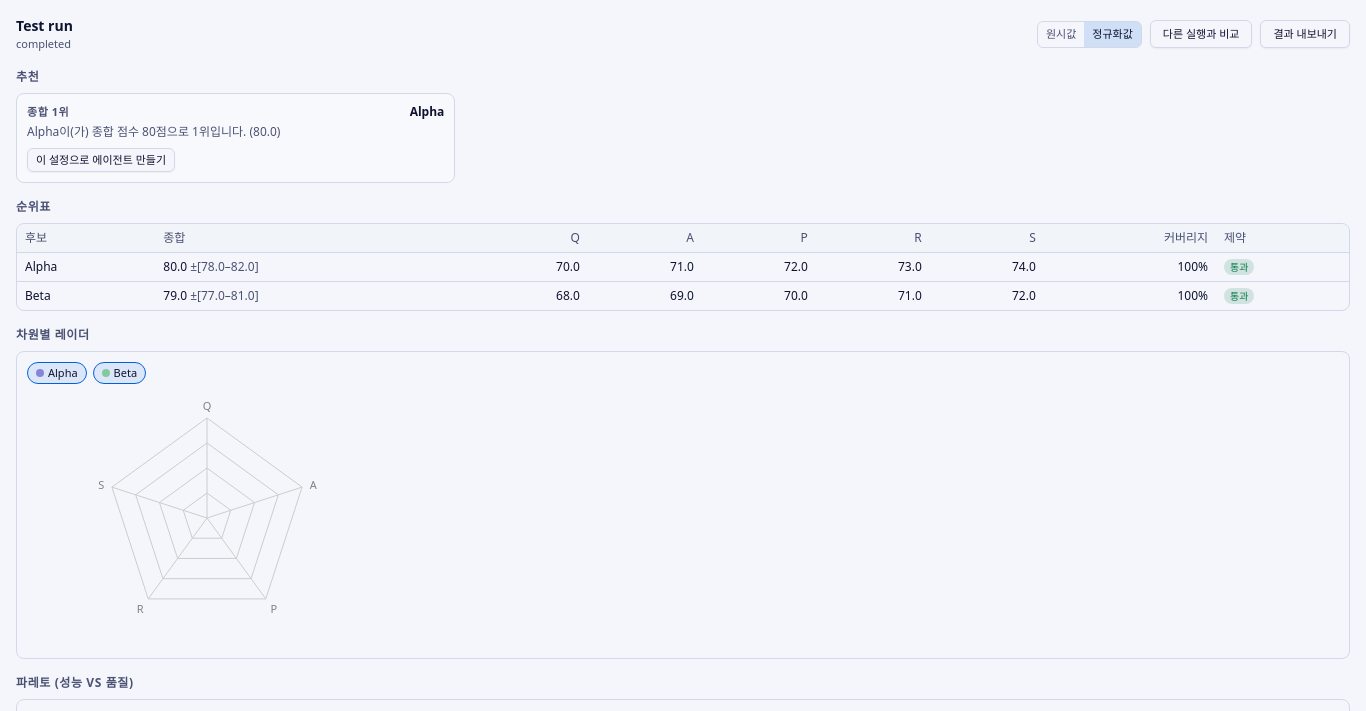
Test: EvalReport › toggles raw vs normalized display
Expected: the heading "Test run" is shown, top-left (16, 16), bottom-right (73, 36)
Click the button "원시값".
click(1061, 34)  # box top-left (1038, 22), bottom-right (1084, 46)
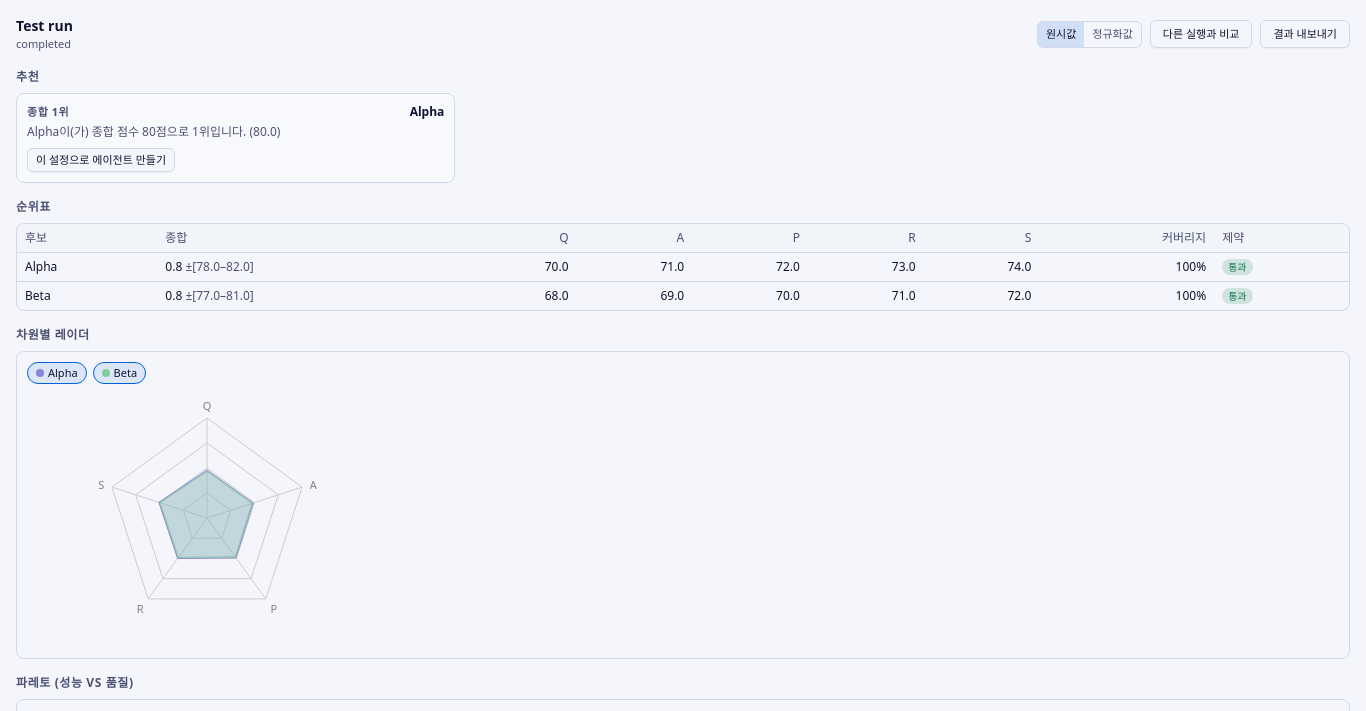
Expected: the text "0.8 ±[78.0–82.0]" is shown, top-left (157, 252), bottom-right (461, 281)
